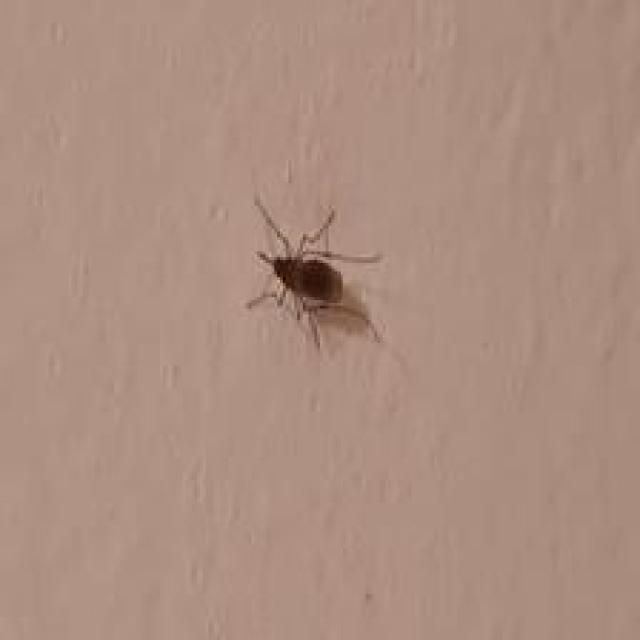Culex: (244, 195, 384, 352)
